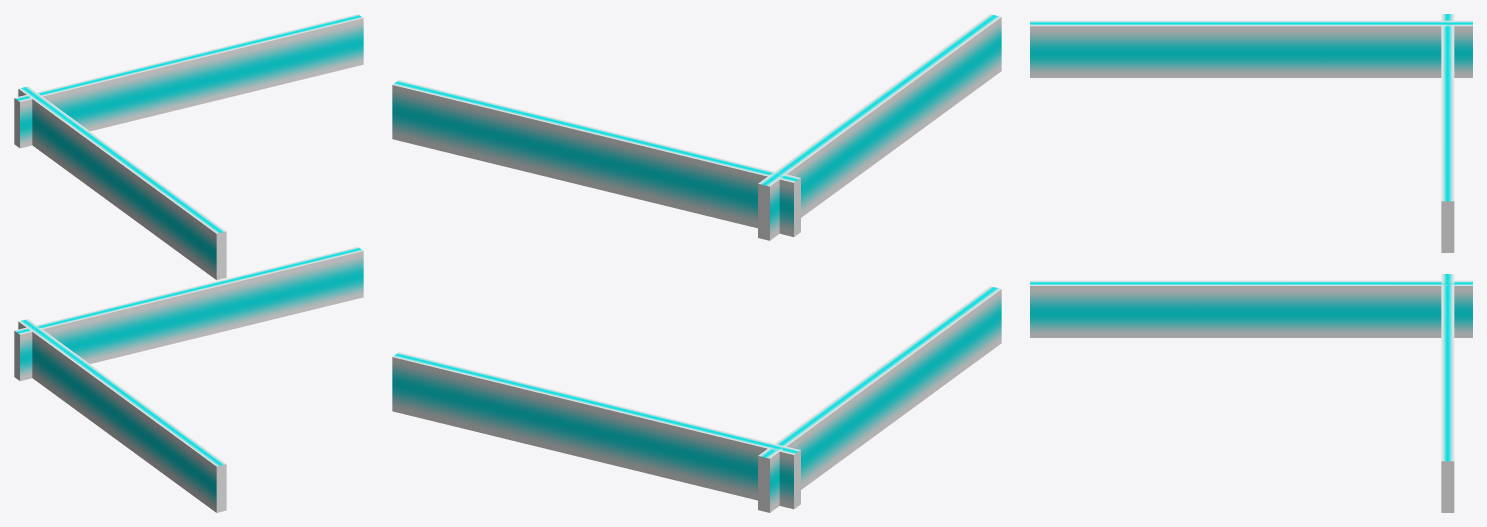
File: cornerlines.obj
3 renders of one model, left to right at view 1: azimuth 30°, elevation 25°; view 2: azimuth 150°, elevation 25°; view 3: azimuth 270°, elevation 25°, orthographic. The views are drawn at different scales.
Bounding box in the file's own units: 0.5469 × 0.4245 × 0.5466.
Materials: 1 (1 with a texture image).
